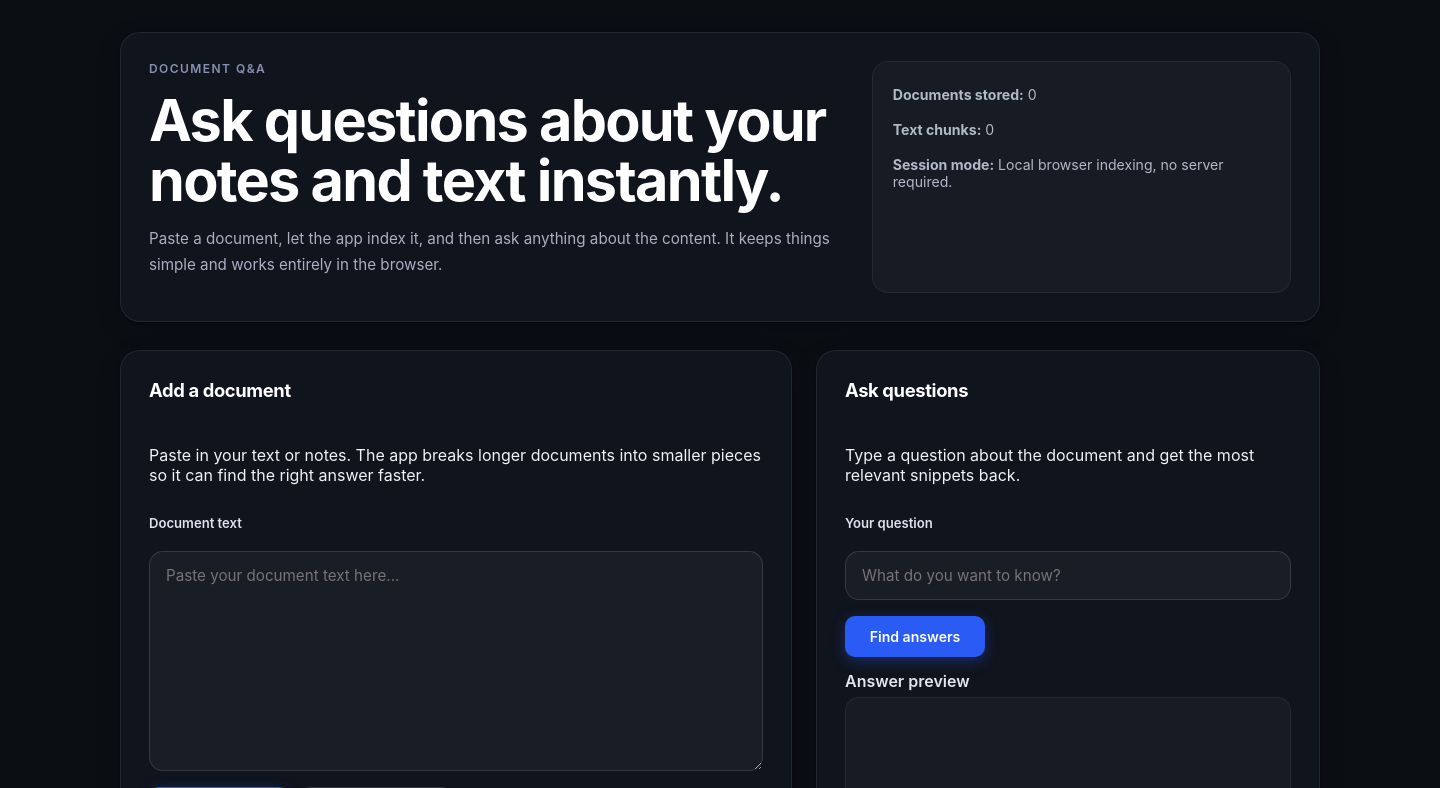
Test: DocQ Component Integration › allows indexing a new document and querying it
// Add a document
Type "DocQ is a lightweight React and Vite app designed for local document Q&A and vector retrieval using cosine similarity." into the text box with placeholder "Paste your document text here..." at [456, 661], box [149,551,763,771]
(page scrolled)
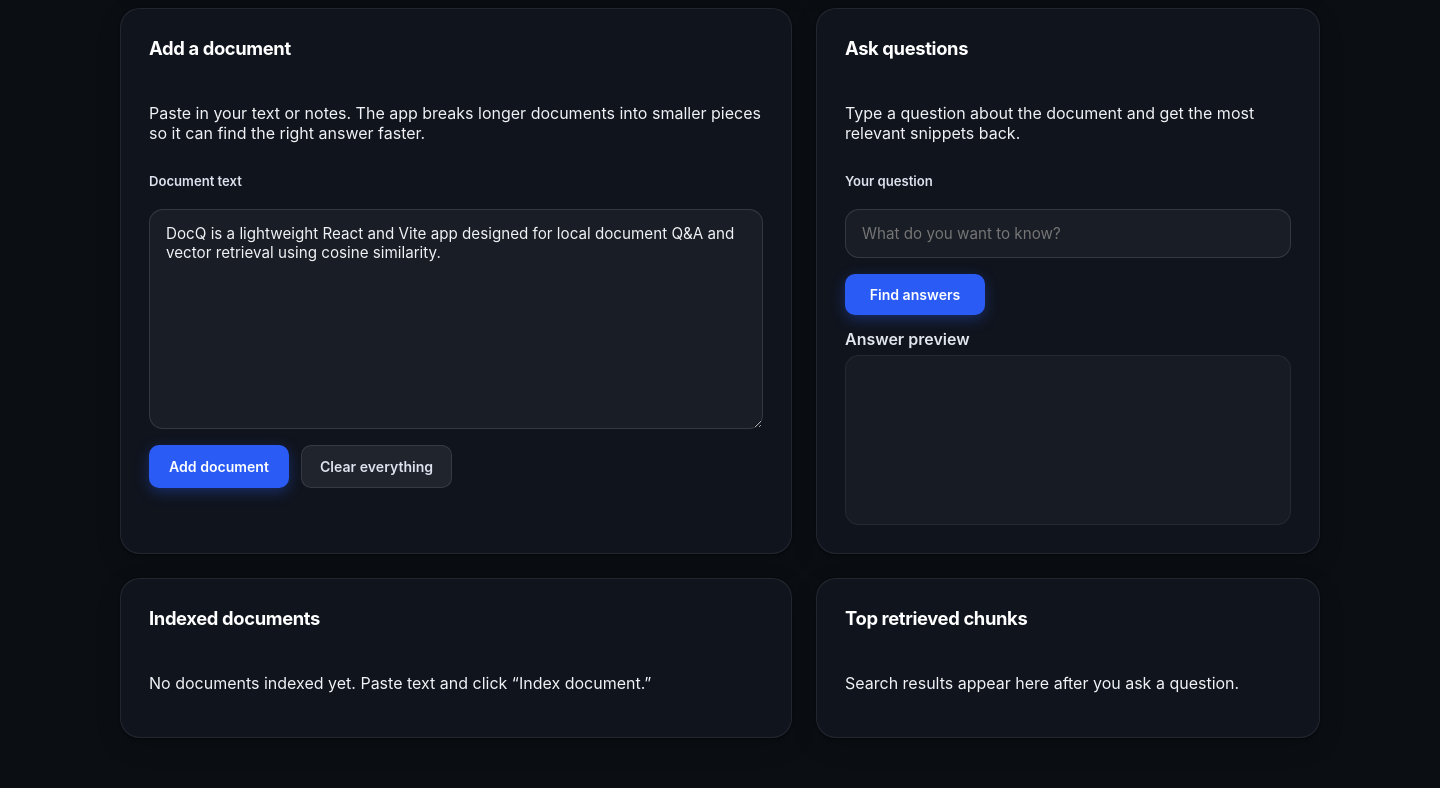
Click the button "Add document" at [219, 466], box [149,445,289,488]
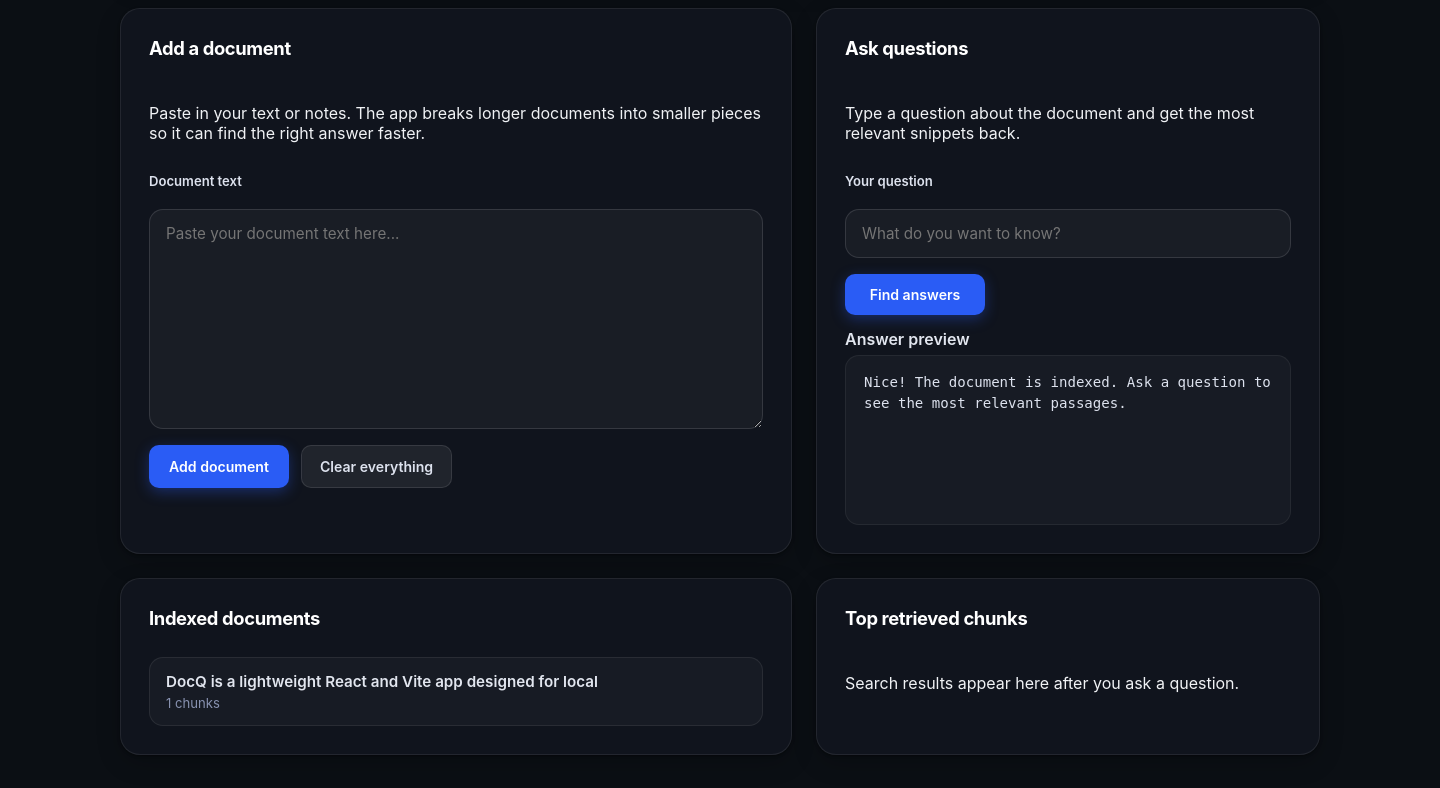
Check: the text "Nice! The document is indexed. Ask a question to see the most relevant passages." is shown, box [845,355,1291,525]
Type "vector retrieval" into the field with placeholder "What do you want to know?" at [1068, 234], box [845,209,1291,258]
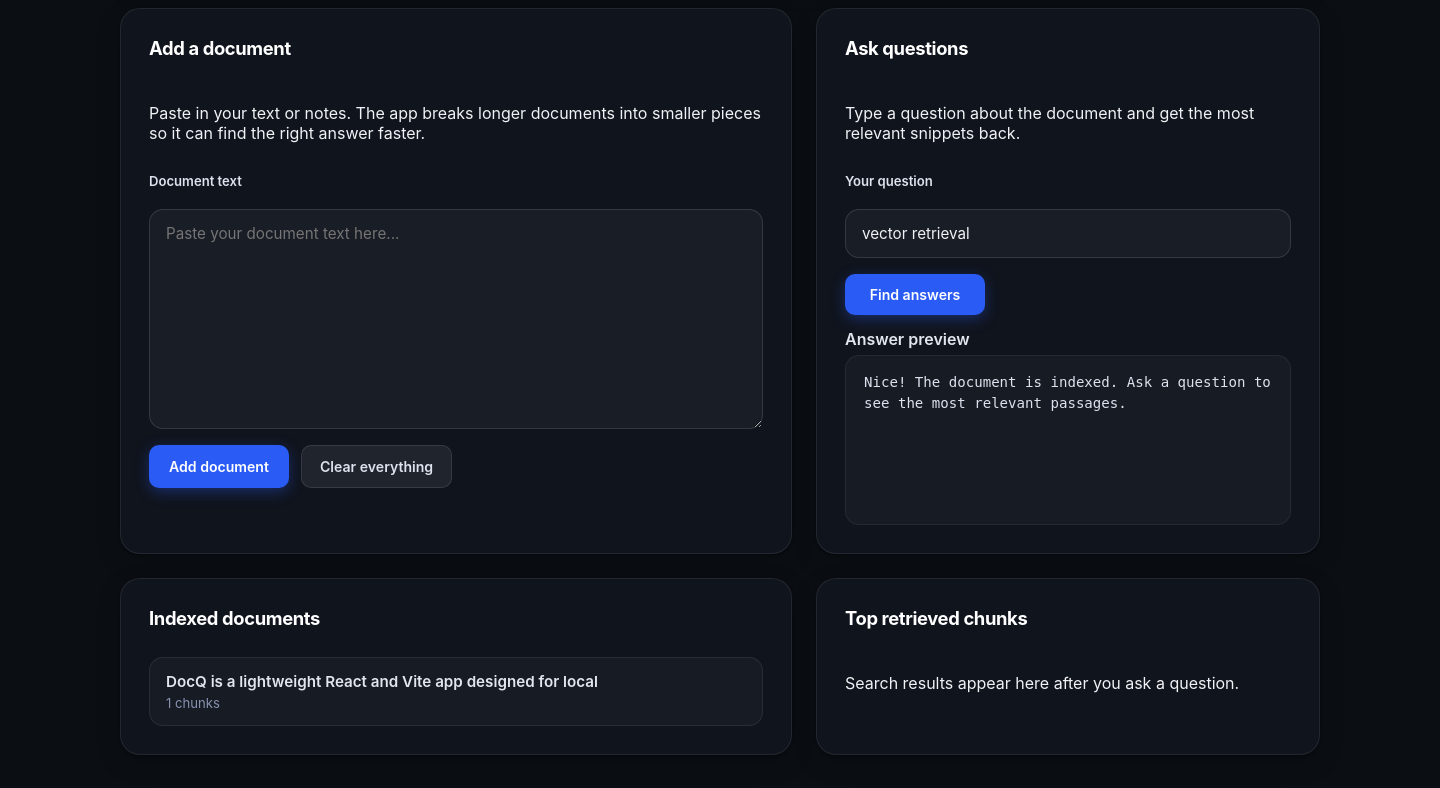
Click the button "Find answers" at [915, 294], box [845,274,985,315]
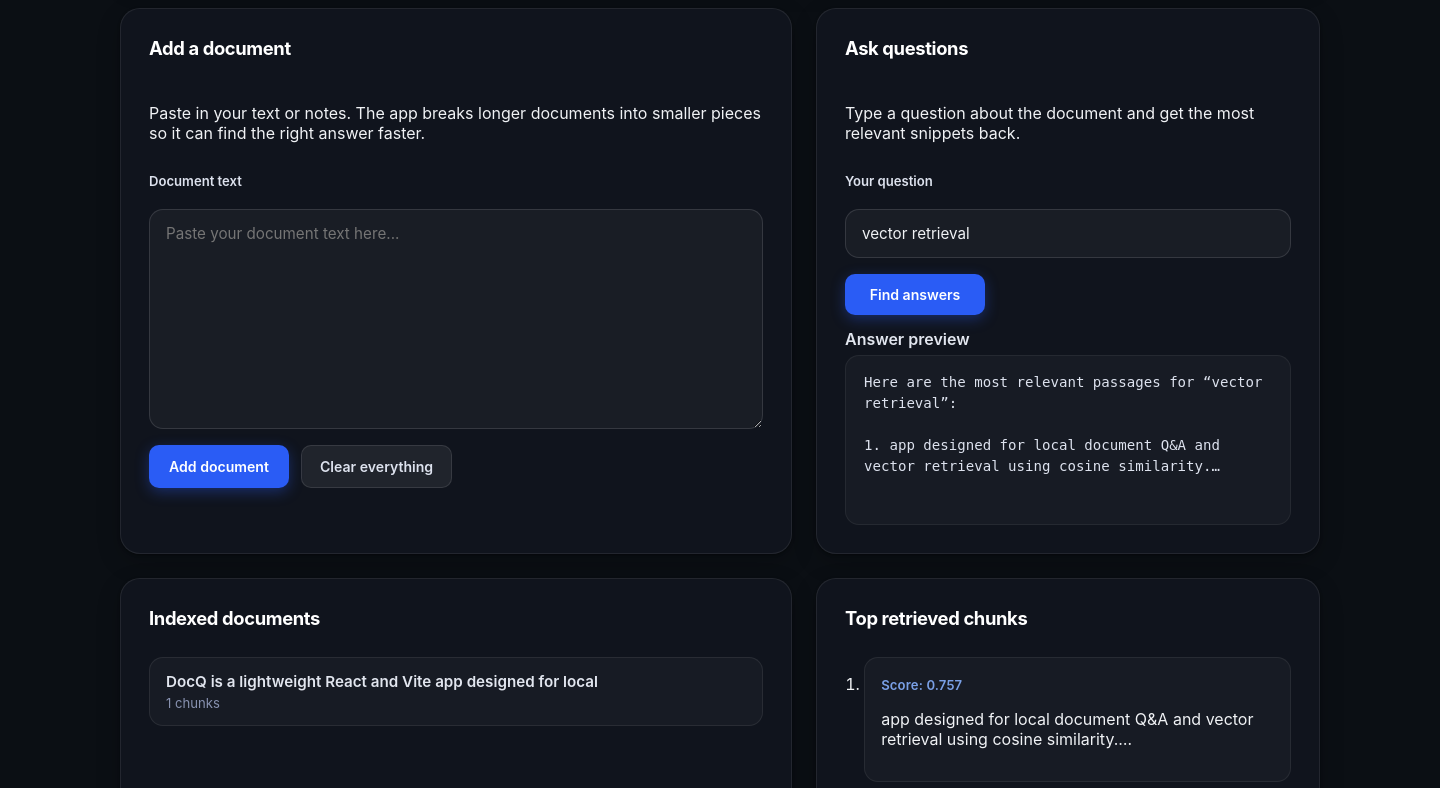
Check: the heading "Top retrieved chunks" is shown, box [845,607,1027,629]
Check: the text "Here are the most relevant passages for “vector retrieval”:" is shown, box [864,374,1271,474]
